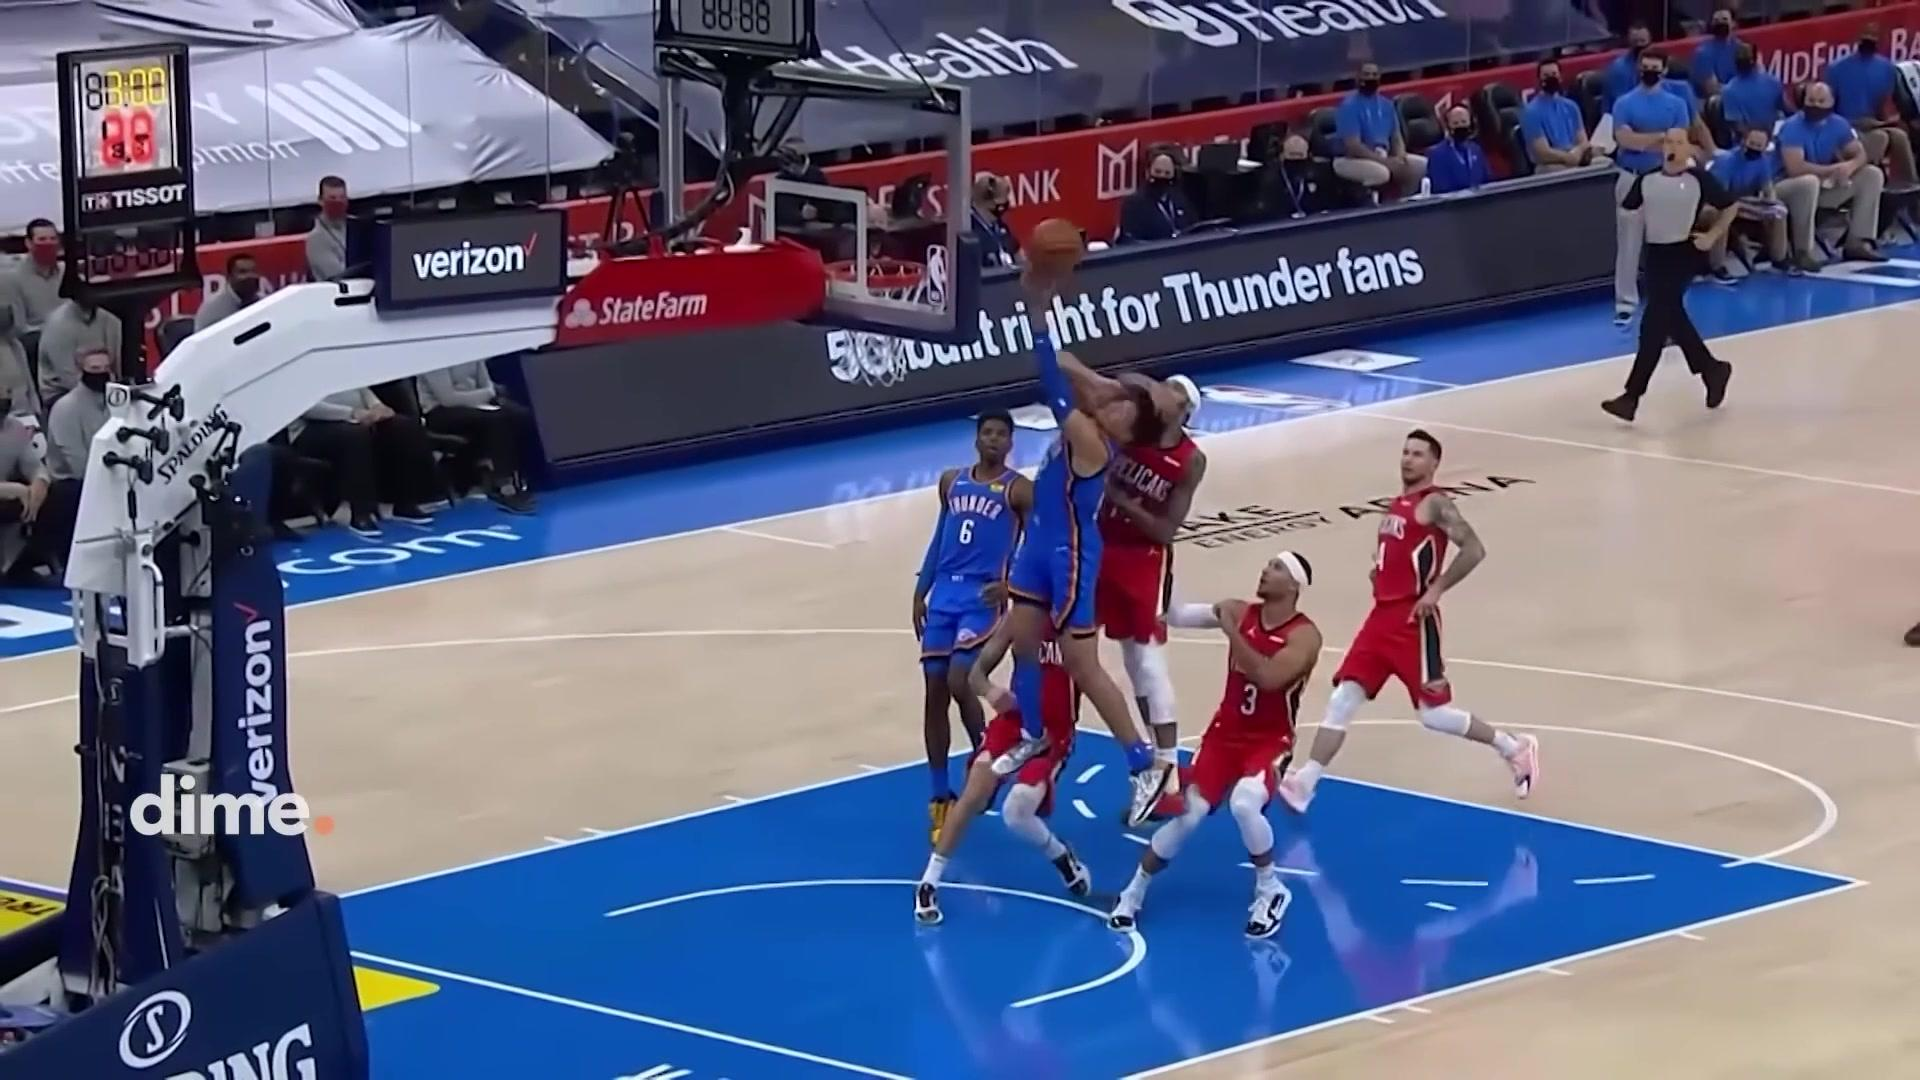foul: (989, 253, 1205, 756)
